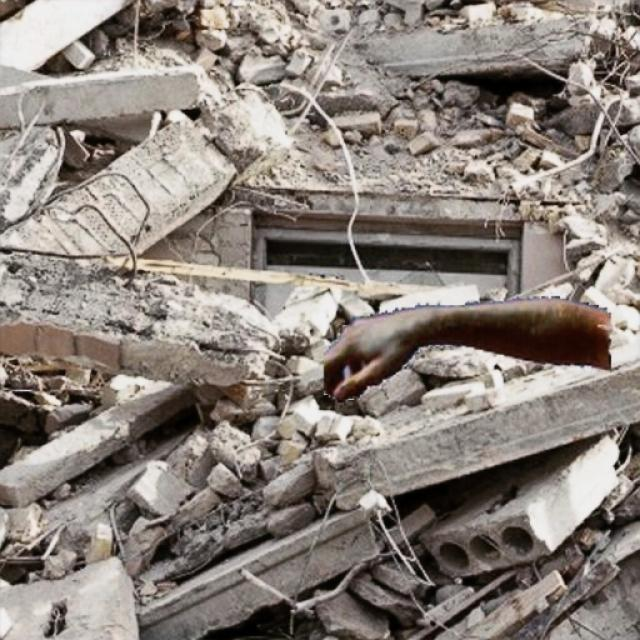Person in Rubble: (324, 296, 610, 402)
